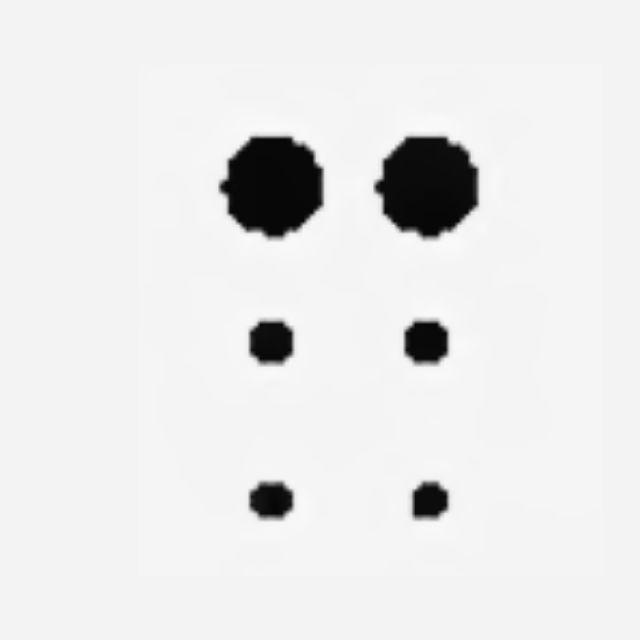kaniya: (219, 135, 479, 547)
